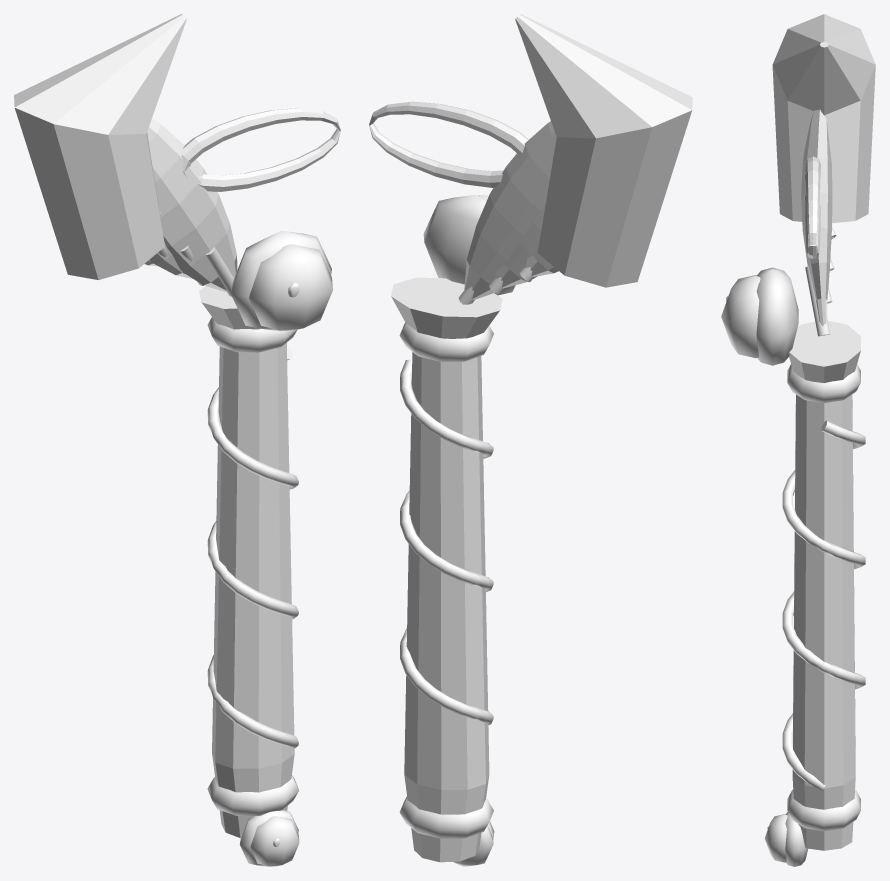
The model's file is axe.obj.
The picture shows the model from 3 angles, left to right: view 1: azimuth 30°, elevation 25°; view 2: azimuth 150°, elevation 25°; view 3: azimuth 270°, elevation 25°; orthographic projection. The views are drawn at different scales.
Visible parts, largest first — view 1: handle, head, ornaments; view 2: handle, head, ornaments; view 3: handle, head, ornaments.
Part boxes in pixels (x1,y1,x2,y2): handle: (199,286,299,866); head: (14,14,237,296); ornaments: (182,108,340,331); handle: (391,277,502,866); head: (458,14,692,304); ornaments: (369,101,528,295); handle: (764,321,865,866); head: (772,14,875,336); ornaments: (721,156,820,365).
Bounding box in the file's own units: 0.3841 × 0.9866 × 0.1747.
